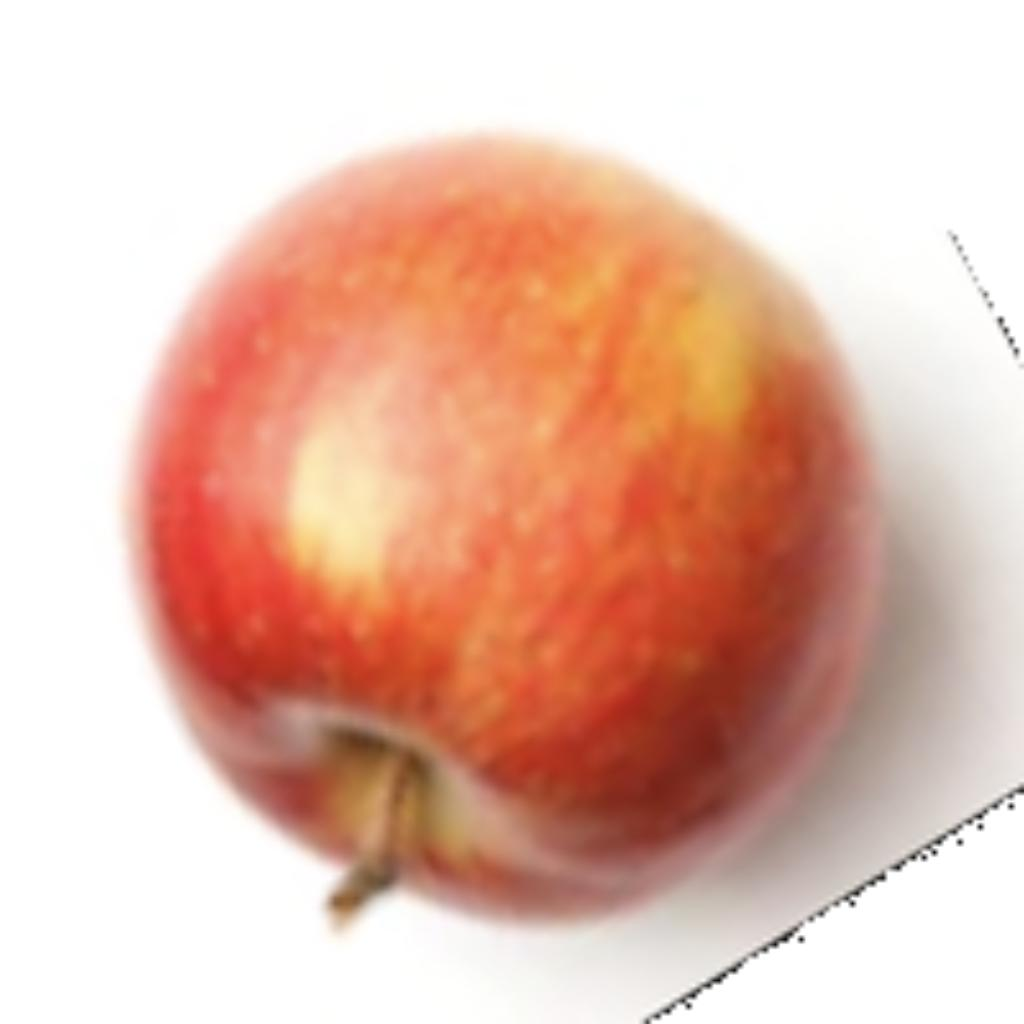apple: (108, 118, 1014, 1019)
